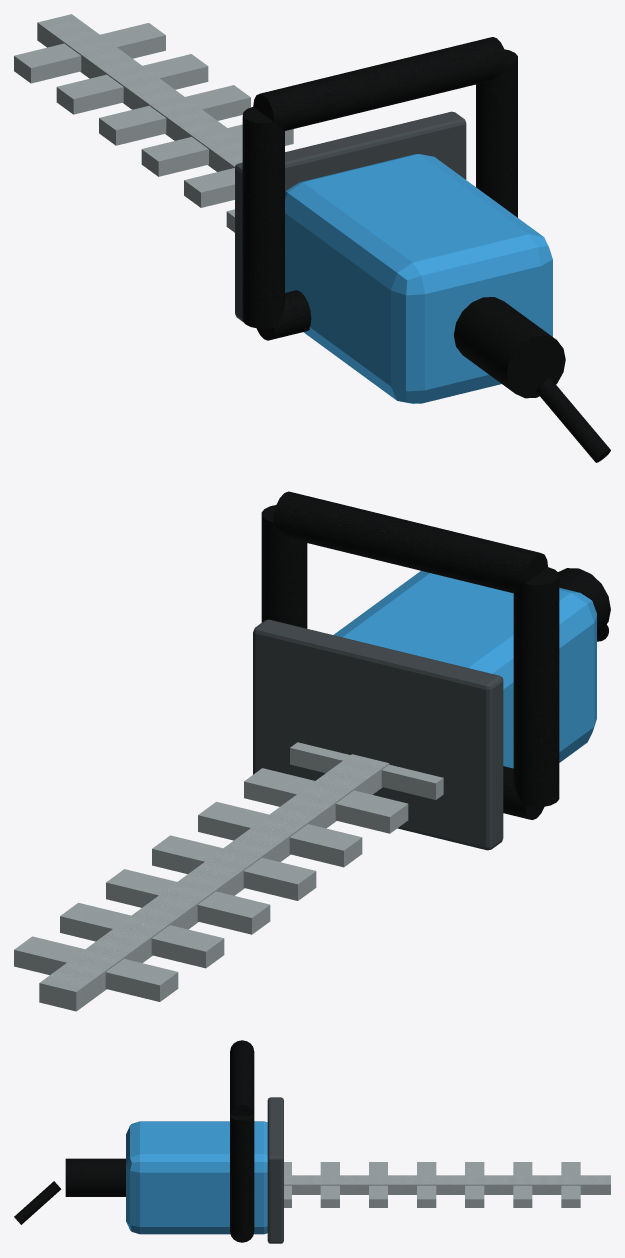
The model's file is ElectricHedgeTrimmer.gltf.
3 views of the same model, one above another, from view 1: azimuth 30°, elevation 25°; view 2: azimuth 150°, elevation 25°; view 3: azimuth 270°, elevation 25° (orthographic). The views are drawn at different scales.
Visible parts, largest first — view 1: ElectricHedgeTrimmer__Body; view 2: ElectricHedgeTrimmer__Body; view 3: ElectricHedgeTrimmer__Body.
Part boxes in pixels (<box>): ElectricHedgeTrimmer__Body: <box>14,14,610,462</box>; ElectricHedgeTrimmer__Body: <box>14,491,610,1011</box>; ElectricHedgeTrimmer__Body: <box>14,1040,610,1243</box>.
Bounding box in the file's own units: 0.308 × 0.2809 × 1.04.
3 materials, 1 textured.
